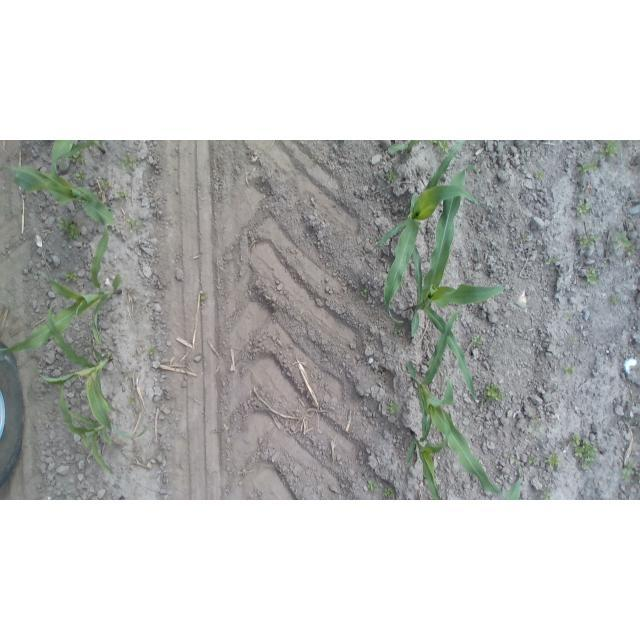Maize: (411, 166, 506, 403), (408, 309, 524, 500), (0, 202, 120, 353), (32, 299, 153, 439), (374, 141, 465, 324), (0, 140, 116, 228), (58, 382, 123, 476), (407, 431, 446, 500), (60, 140, 107, 170), (387, 140, 421, 153)
Weeds: (573, 433, 600, 470), (58, 217, 82, 240), (612, 231, 634, 255), (600, 140, 620, 158), (483, 383, 503, 401), (68, 149, 86, 166), (621, 462, 635, 483), (545, 453, 562, 470), (579, 233, 598, 248), (577, 160, 597, 174), (576, 200, 591, 217), (121, 153, 135, 171), (430, 140, 450, 152), (116, 189, 129, 205), (586, 268, 598, 285), (386, 402, 399, 415), (66, 270, 79, 282), (100, 178, 112, 191), (382, 488, 396, 499), (540, 488, 552, 500), (76, 169, 87, 182), (532, 415, 541, 430), (472, 334, 482, 347), (367, 480, 378, 491), (448, 311, 458, 323), (127, 219, 141, 227), (386, 170, 397, 180), (147, 347, 157, 355), (565, 365, 573, 375), (546, 258, 557, 265), (535, 170, 543, 179), (611, 297, 620, 304), (395, 328, 404, 335), (361, 289, 368, 298), (129, 397, 136, 405), (529, 456, 536, 464), (400, 277, 405, 287), (571, 337, 577, 343), (520, 238, 529, 242), (107, 352, 112, 359), (311, 157, 316, 164), (566, 313, 571, 319), (201, 296, 206, 301), (638, 472, 640, 484), (487, 238, 493, 241), (481, 400, 484, 405)
